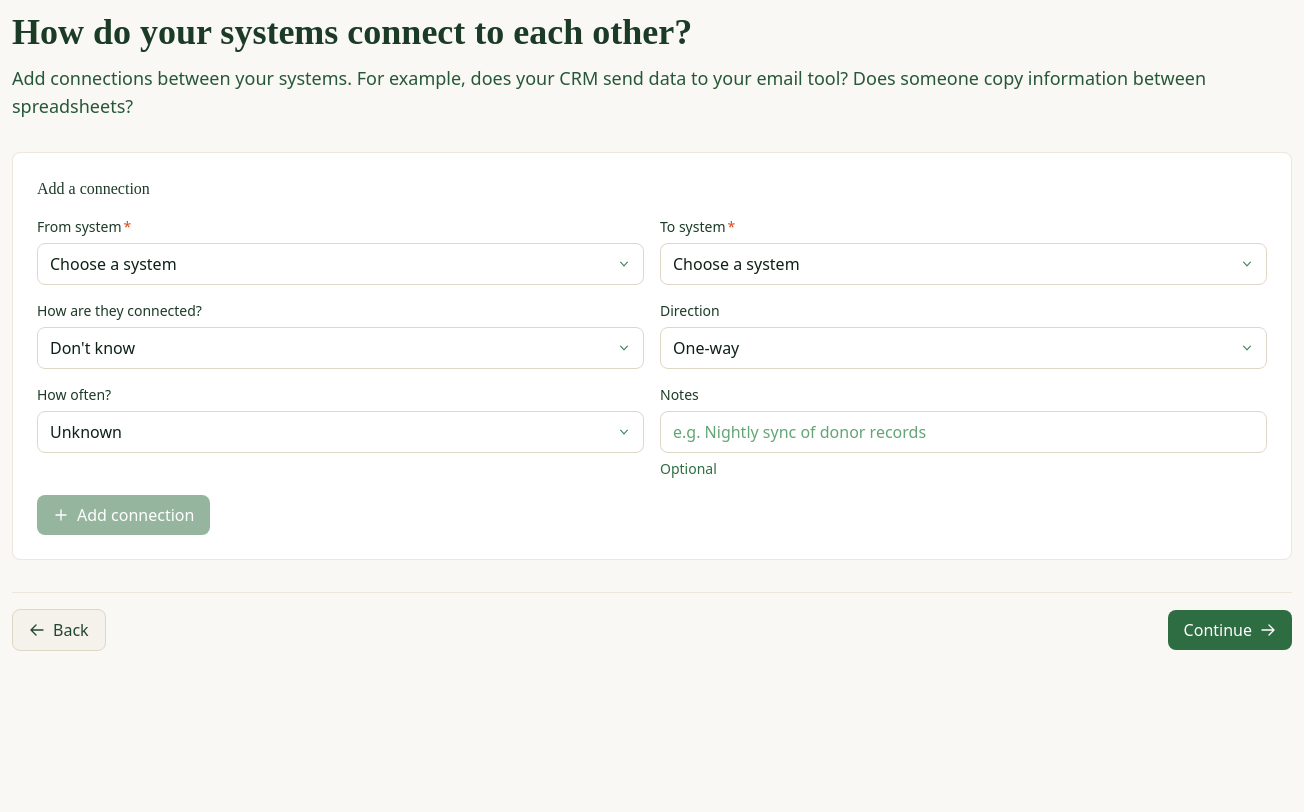
Test: IntegrationMatrix › can remove an added connection
Select "System 1" in the dropdown labelled "From system*": (340, 264) [37,243,644,285]
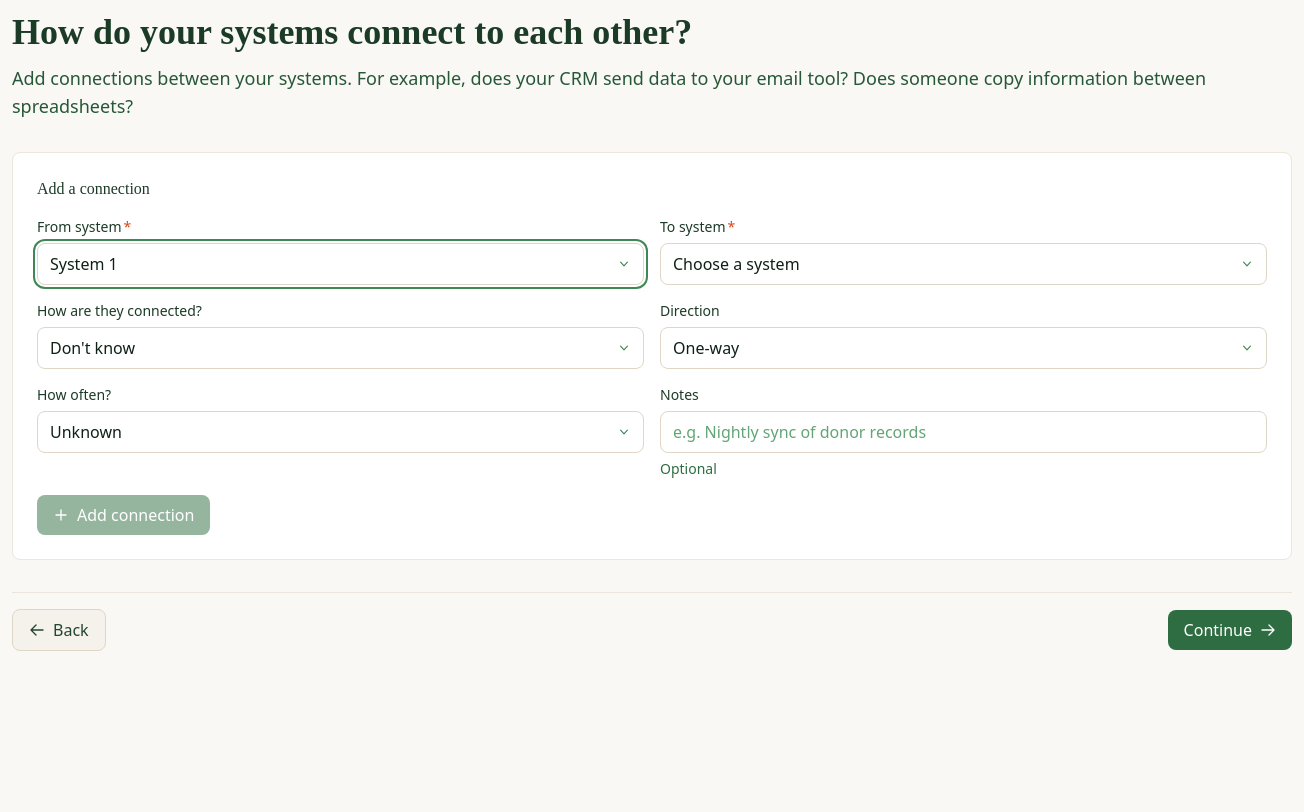
Select "System 2" in the dropdown labelled "To system*": (964, 264) [660,243,1267,285]
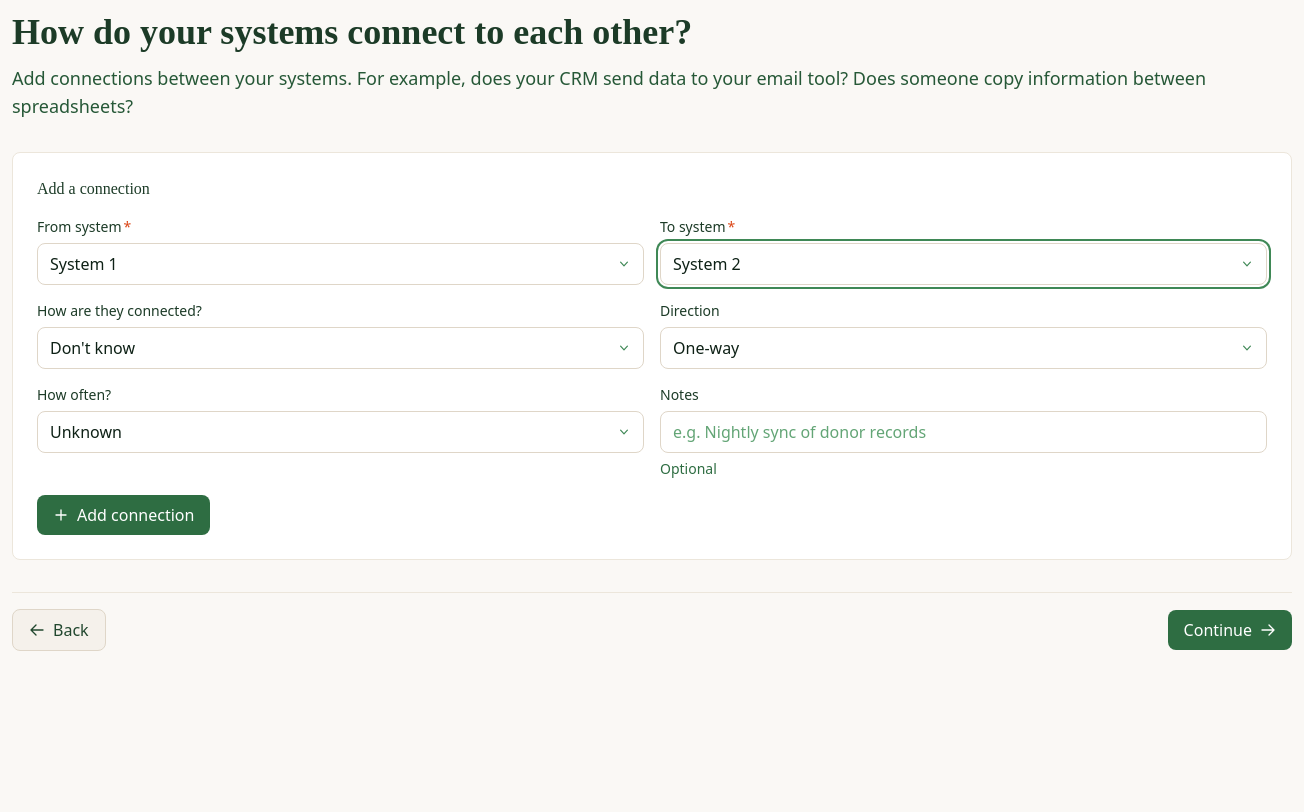
Click the button "Add connection": click(124, 515) [37,495,210,535]
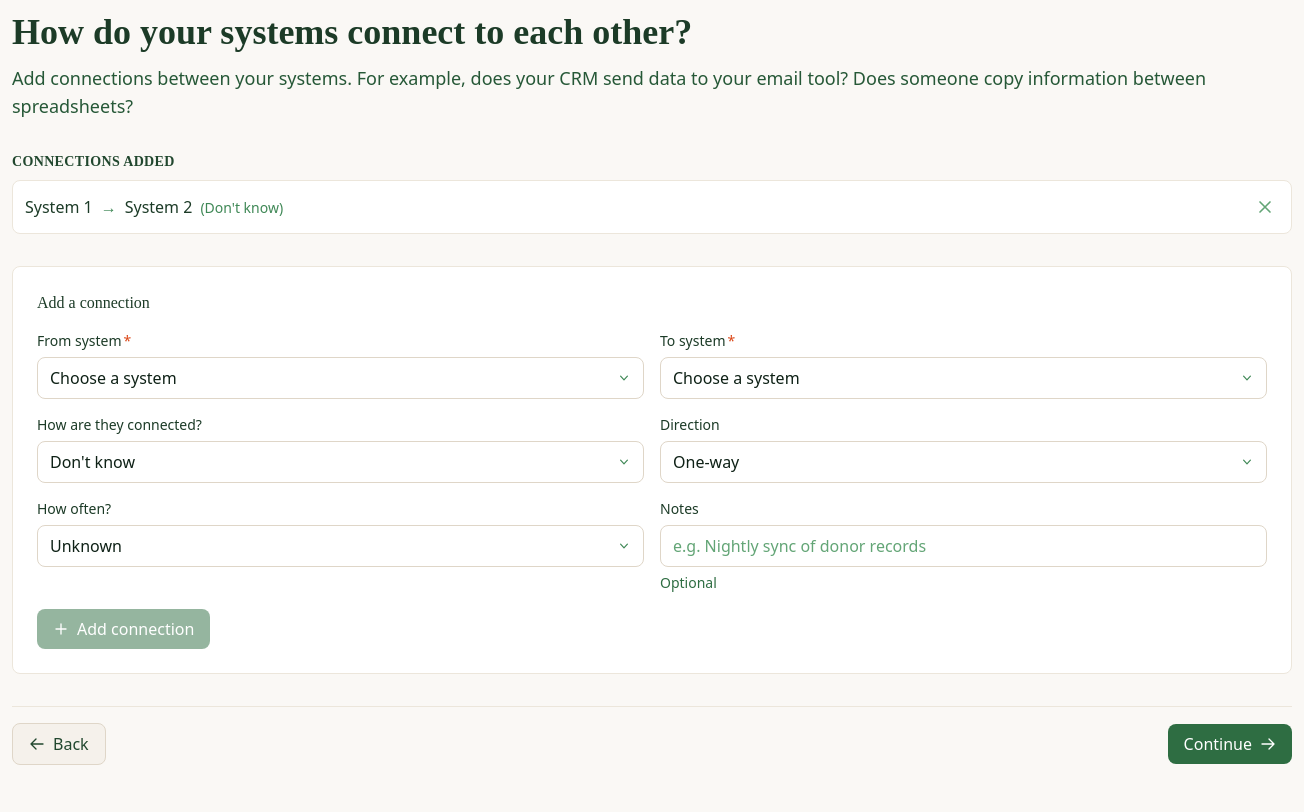
Click the button named "remove connection": click(1265, 207) [1251,193,1279,221]
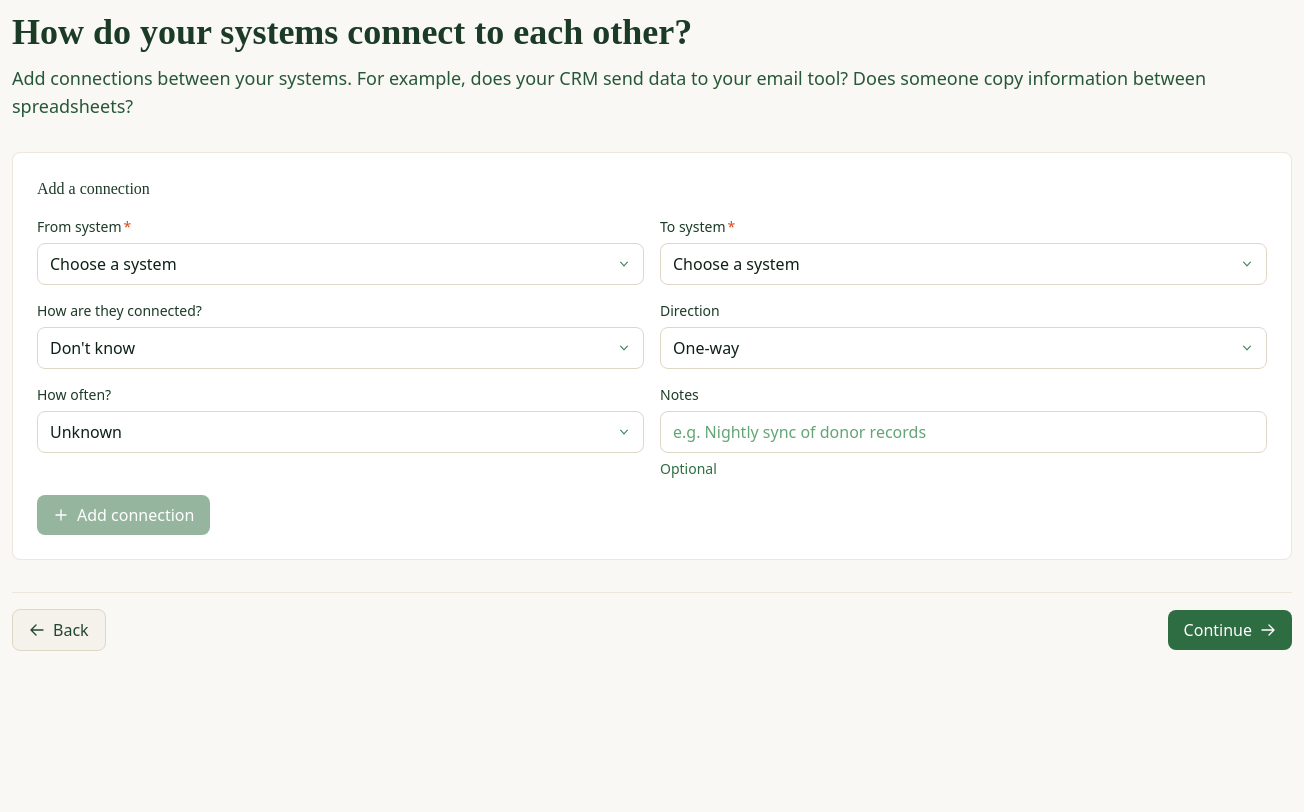
Expected: the heading "Connections added" is gone
